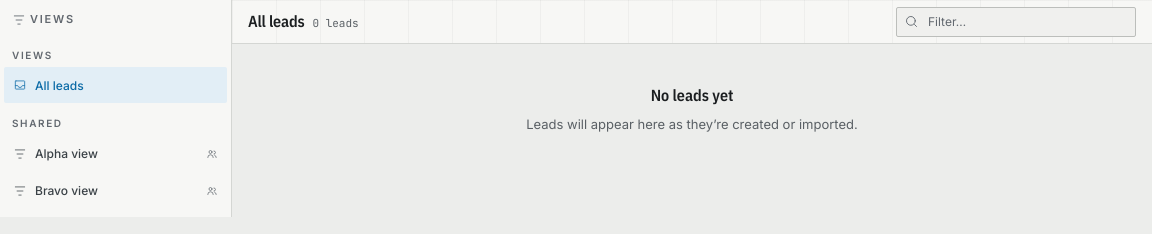
LeadsSurface — Smart View selection › selecting a view runs preview; switching re-queries with the new DSL
Note: Pick "Alpha view" → POST /smart-views/preview with view A's DSL.
Click the option "Alpha view": (66, 154) [13,146,218,161]
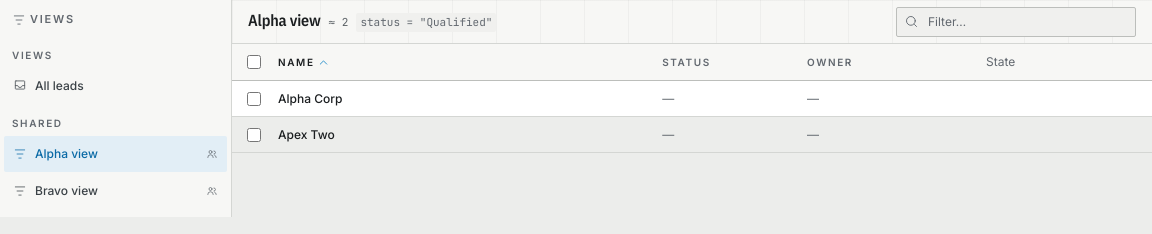
Check: the text "Alpha Corp" is shown, box [278,91,342,106]
Note: Switch to "Bravo view" → a fresh preview with view B's DSL (the re-query).
Click the option "Bravo view": (66, 191) [13,183,218,198]
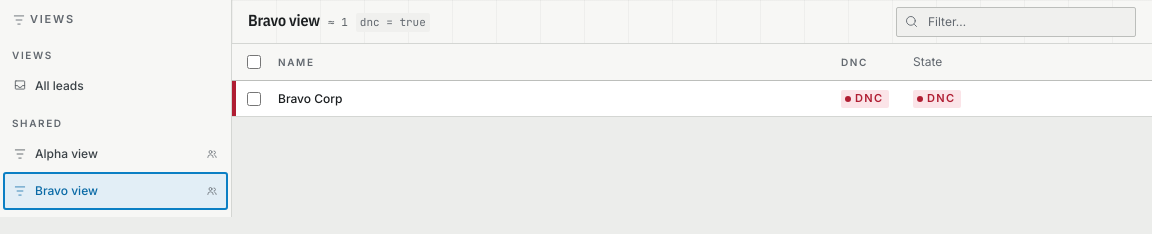
Check: the text "Bravo Corp" is shown, box [278,91,342,106]
Check: the text "Alpha Corp" is gone
Check: the text "dnc = true" is shown, box [356,12,430,32]
